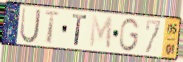7: (144, 18, 162, 55)
G: (118, 17, 141, 53)
M: (88, 14, 114, 51)
T: (43, 10, 61, 46), (71, 13, 88, 48)
U: (19, 6, 42, 45)
